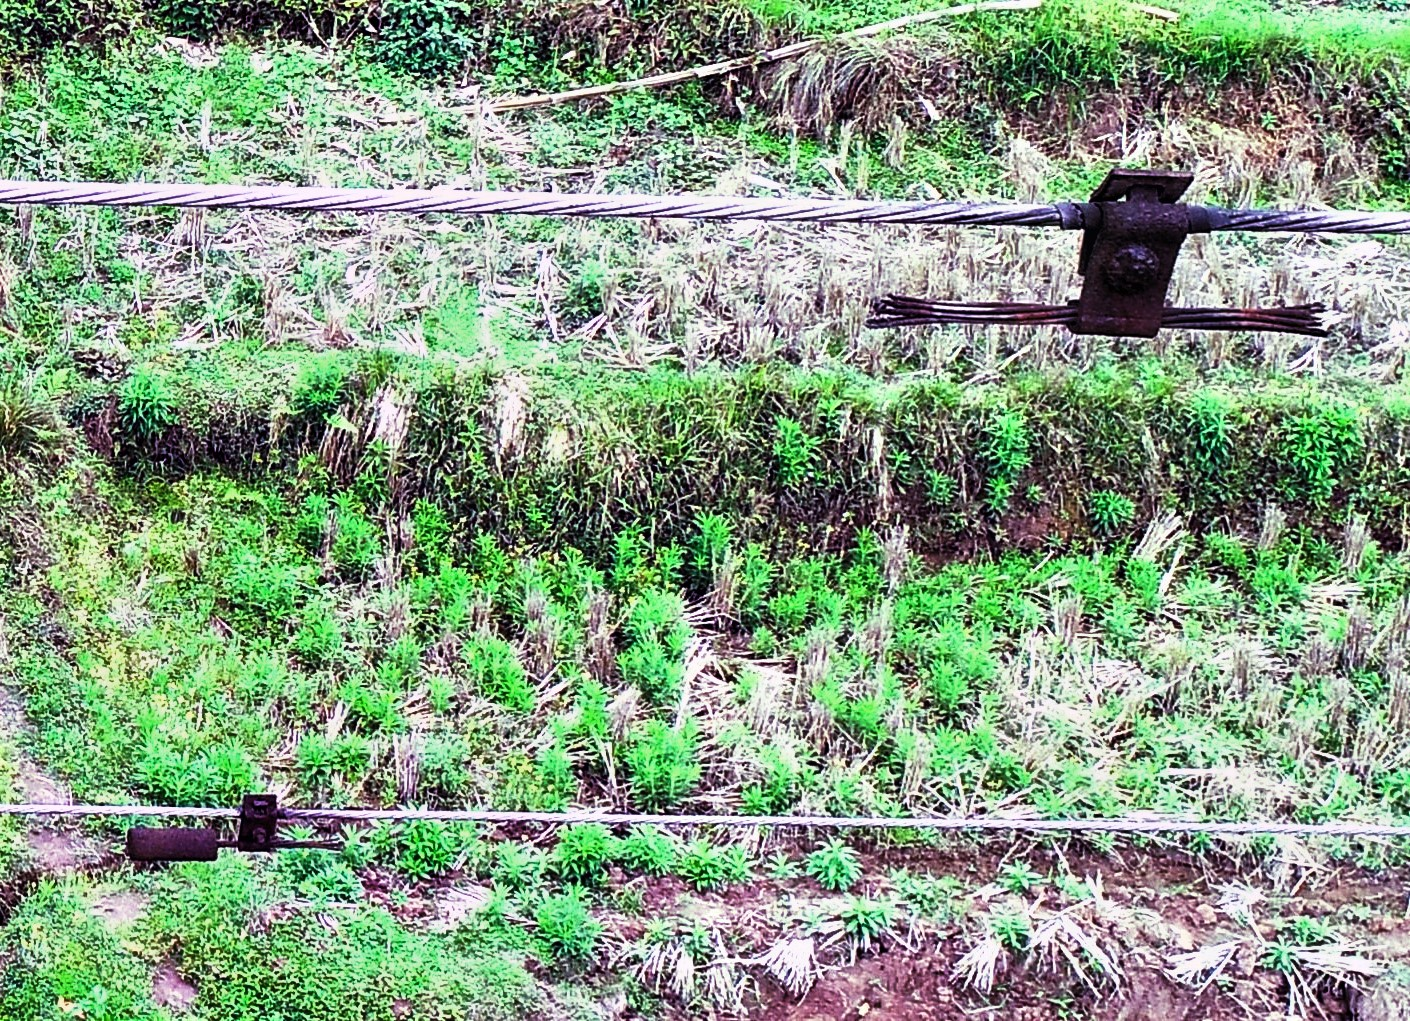Damage of shockproof hammer: (855, 137, 1350, 382), (122, 768, 350, 885)
